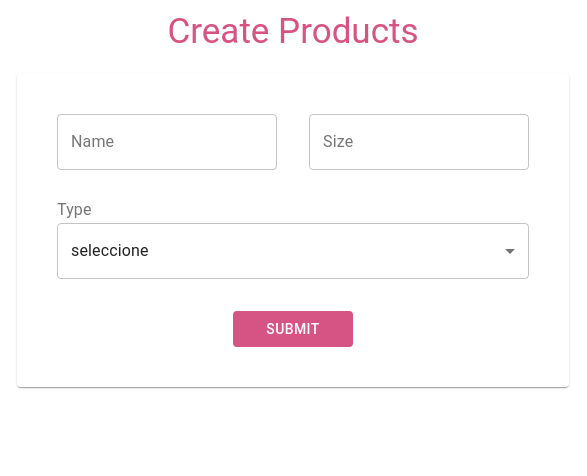
Test: when the users submit the forms without values › should be display validation
Expected: the text "the name is required" is not shown
Expected: the text "the size is required" is not shown
Step 1. Click the button "Submit" → coordinates (293, 329), box 233,311 -> 353,347
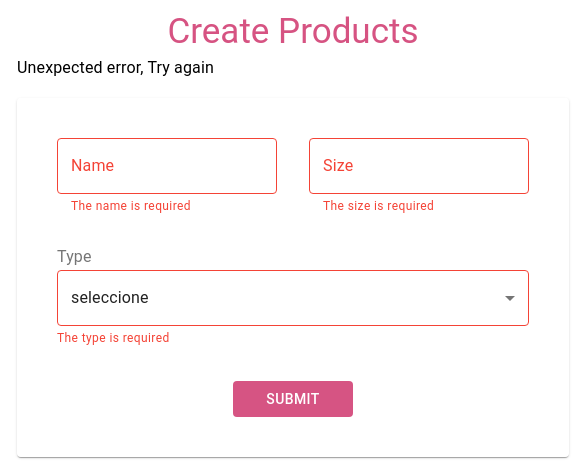
Result: the text "The name is required" is shown at 71,199 -> 191,213
Result: the text "The size is required" is shown at 323,199 -> 434,213
Result: the text "The type is required" is shown at 57,331 -> 170,345
